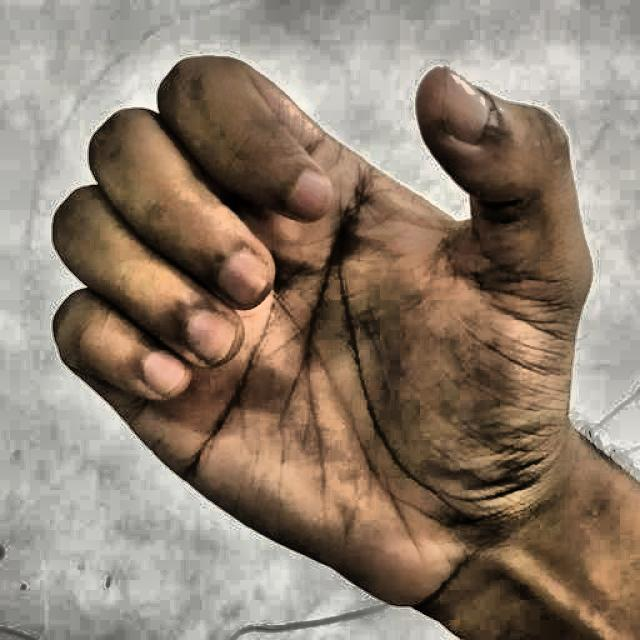Dho: (26, 24, 612, 621)
